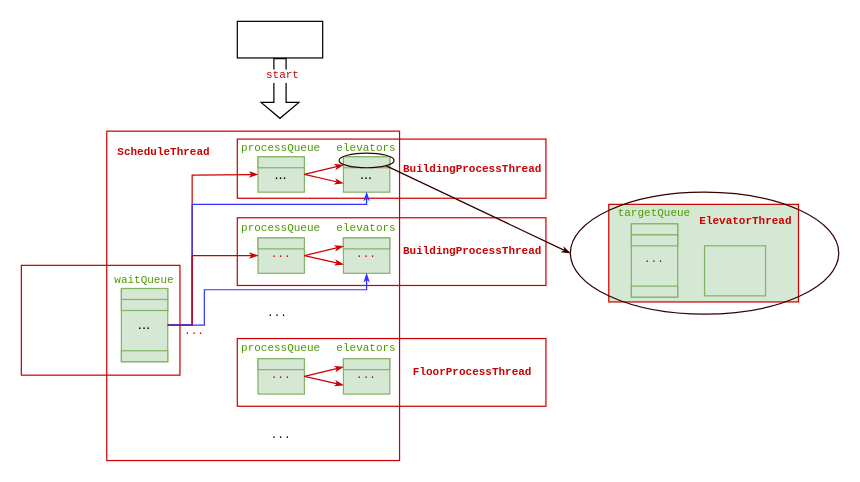
The diagram is 860 pixels wide and 482 high, and some of its shapes have lost their labels. The box of each missing label's shape, as (x1, y1, x2, y2) in pixels:
Elevator: (703, 245, 766, 296)
InputThread: (20, 264, 180, 375)
Main: (236, 20, 323, 58)
